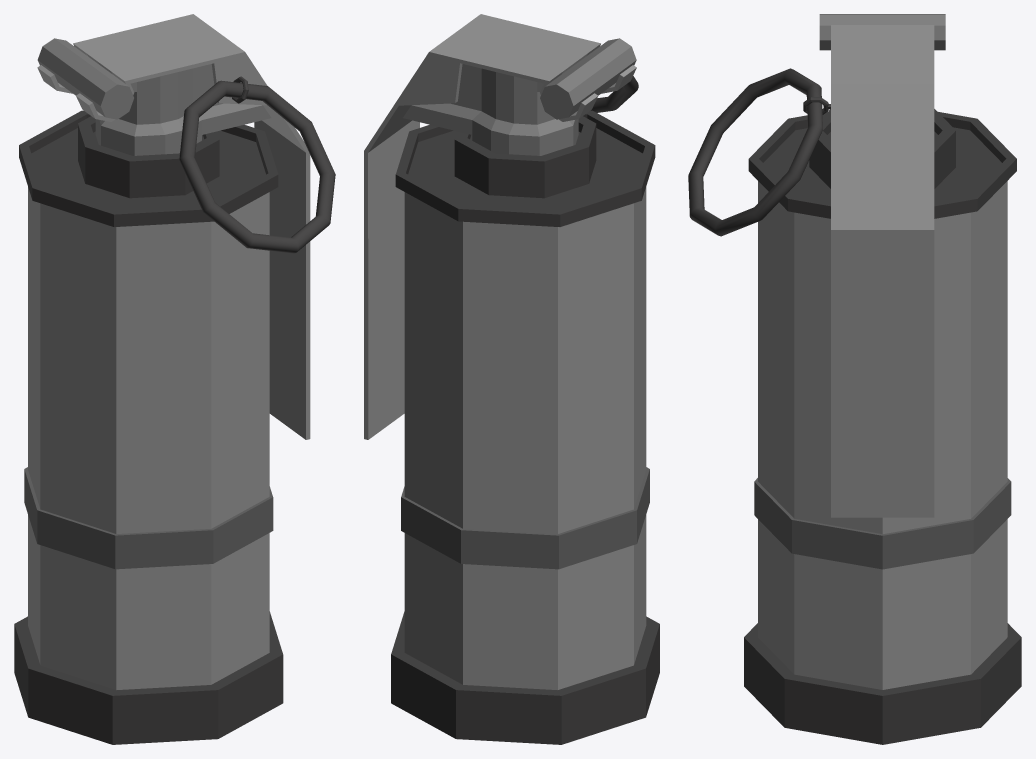
Rendered from Smoke.fbx.
3 views of the same model, side by side, from view 1: azimuth 30°, elevation 25°; view 2: azimuth 150°, elevation 25°; view 3: azimuth 270°, elevation 25° (orthographic).
Visible parts, largest first — view 1: Smoke - Main.001; view 2: Smoke - Main.001; view 3: Smoke - Main.001.
Part boxes in pixels (x1,y1,x2,y2): Smoke - Main.001: (14,14,335,744); Smoke - Main.001: (364,14,659,744); Smoke - Main.001: (688,14,1021,744).
Size of the model in its own units: 60.82 by 146 by 68.7.
